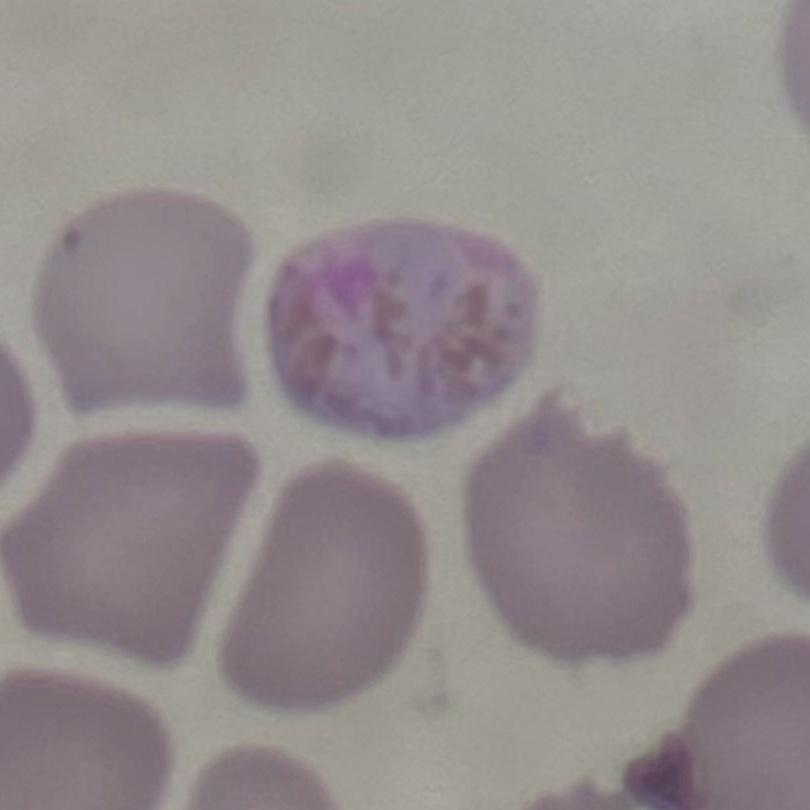Infected: (266, 221, 544, 436)
Uninfected: (468, 395, 701, 666), (8, 431, 252, 654), (36, 191, 252, 419), (224, 471, 431, 705)
